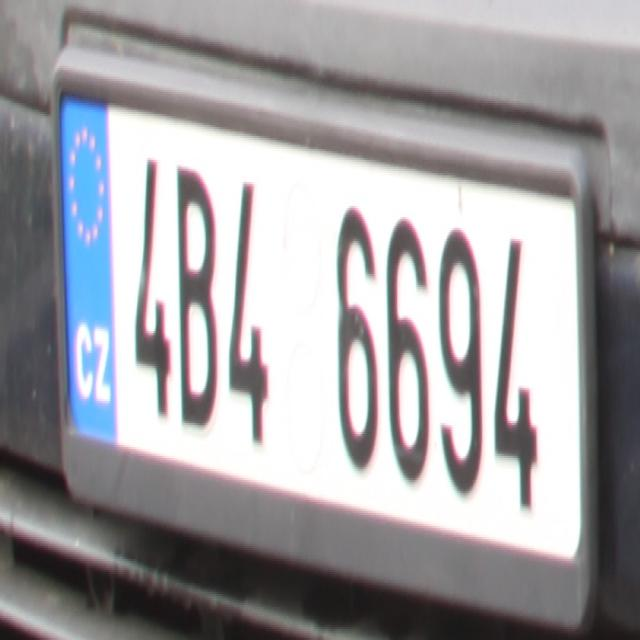4: (492, 235, 540, 517), (227, 173, 272, 452), (132, 156, 172, 417)
6: (335, 200, 378, 464), (386, 219, 429, 478)
9: (438, 226, 484, 487)
B: (176, 158, 220, 434)
